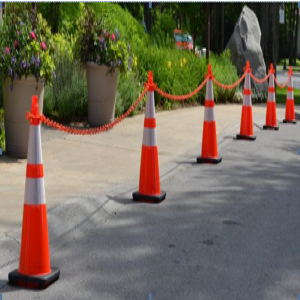traffic cone: (9, 94, 60, 291), (133, 83, 166, 204), (196, 76, 222, 165), (236, 68, 257, 141), (263, 70, 281, 131), (283, 71, 296, 124)
